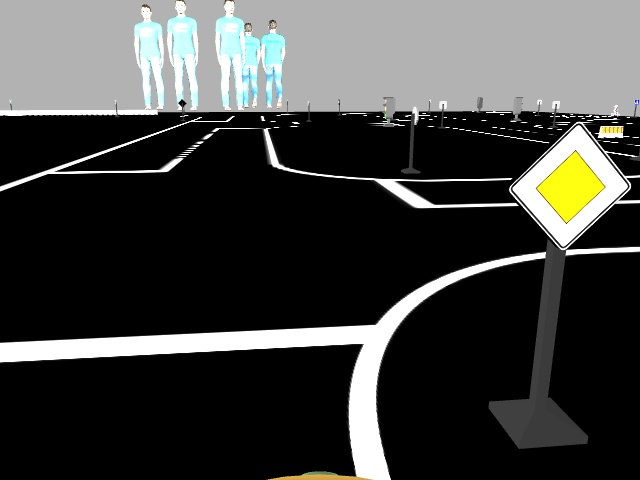Priority: (507, 119, 632, 250)
